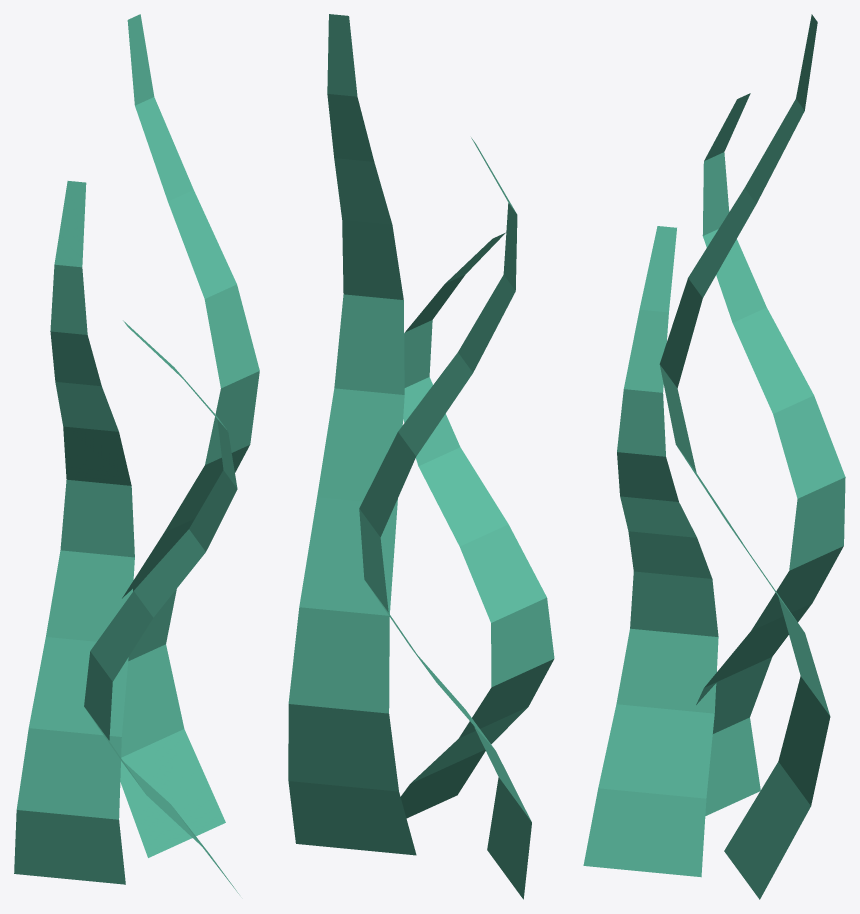
Rendered from Seaweed.fbx.
3 views of the same model, side by side, from view 1: azimuth 30°, elevation 25°; view 2: azimuth 150°, elevation 25°; view 3: azimuth 270°, elevation 25° (orthographic). The views are drawn at different scales.
Parts seen in each view (by area): view 1: Seaweed; view 2: Seaweed; view 3: Seaweed.
Boxes of the visible parts, x1=… form: Seaweed: x1=14, y1=14, x2=259, y2=894; Seaweed: x1=288, y1=14, x2=554, y2=899; Seaweed: x1=583, y1=14, x2=845, y2=899.
Size of the model in its own units: 0.4744 by 1.7 by 0.4761.
